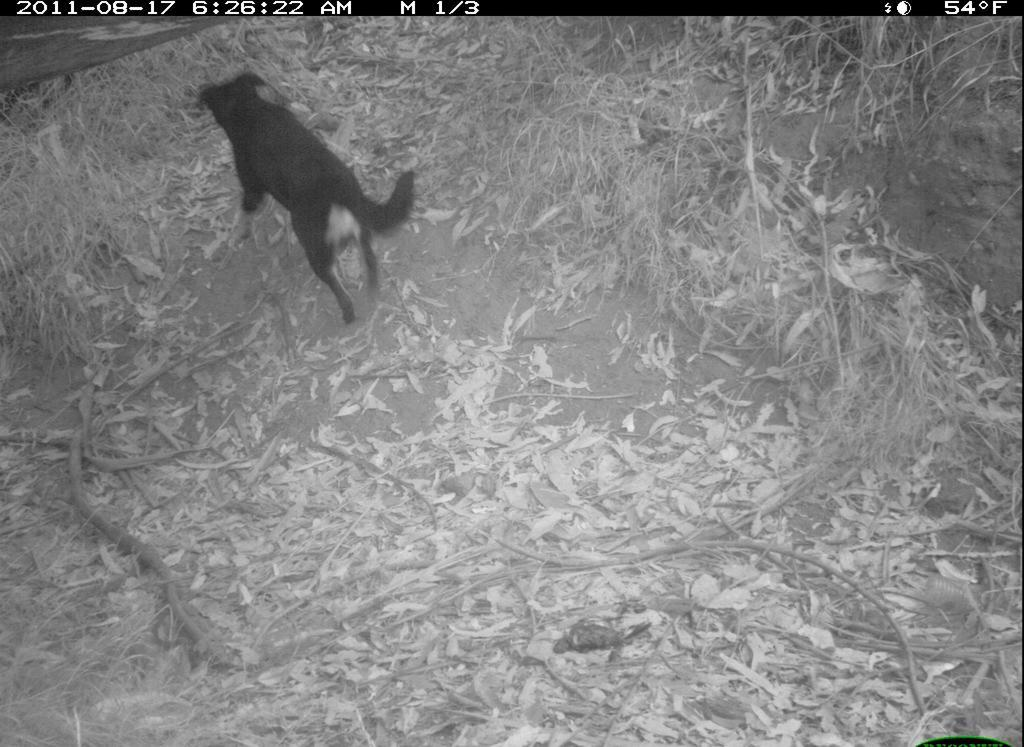dog: (182, 45, 456, 353)
